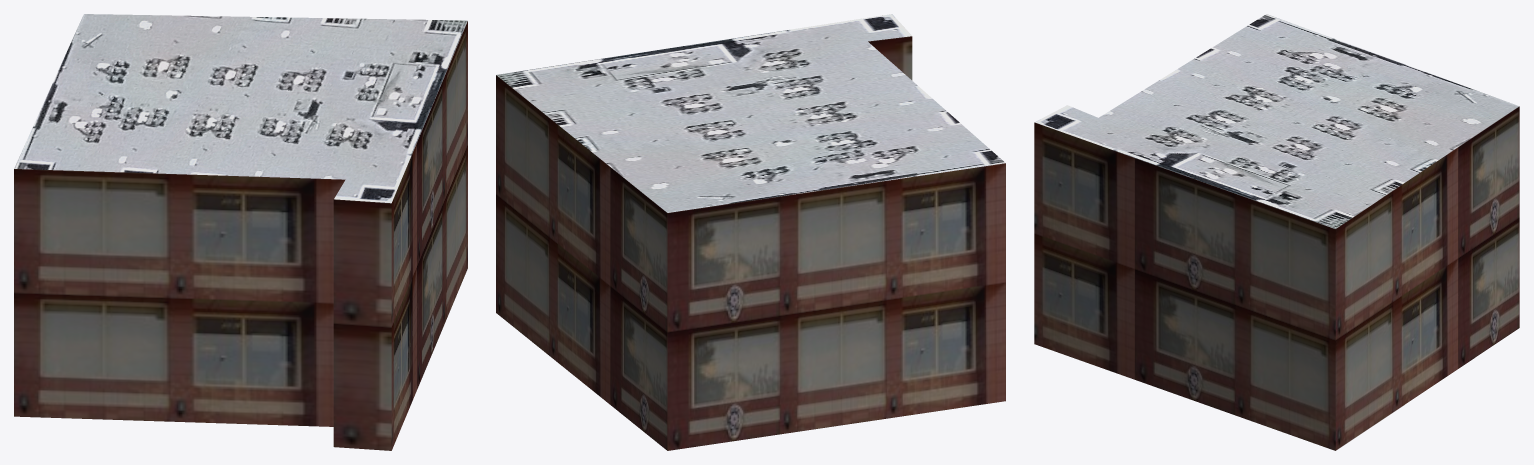
File: ResTex__428.fbx
3 views of the same model, side by side, from view 1: azimuth 30°, elevation 25°; view 2: azimuth 150°, elevation 25°; view 3: azimuth 270°, elevation 25° (orthographic). The views are drawn at different scales.
Parts seen in each view (by area): view 1: CityEngineMaterial_13_m, CityEngineMaterial_4_m; view 2: CityEngineMaterial_13_m, CityEngineMaterial_4_m; view 3: CityEngineMaterial_13_m, CityEngineMaterial_4_m.
Part boxes in pixels (x1,y1,x2,y2): CityEngineMaterial_13_m: [14, 21, 467, 450]; CityEngineMaterial_4_m: [14, 14, 467, 203]; CityEngineMaterial_13_m: [496, 36, 1005, 450]; CityEngineMaterial_4_m: [496, 14, 1005, 212]; CityEngineMaterial_13_m: [1034, 106, 1519, 450]; CityEngineMaterial_4_m: [1035, 14, 1519, 228].
Bounding box in the file's own units: 12.48 × 6 × 11.89.
Materials: 2 (2 with a texture image).
